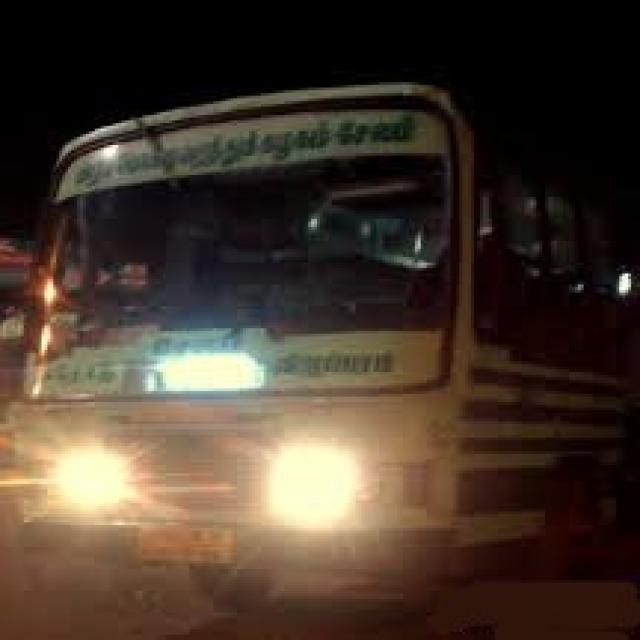Bus: (13, 65, 640, 588)
